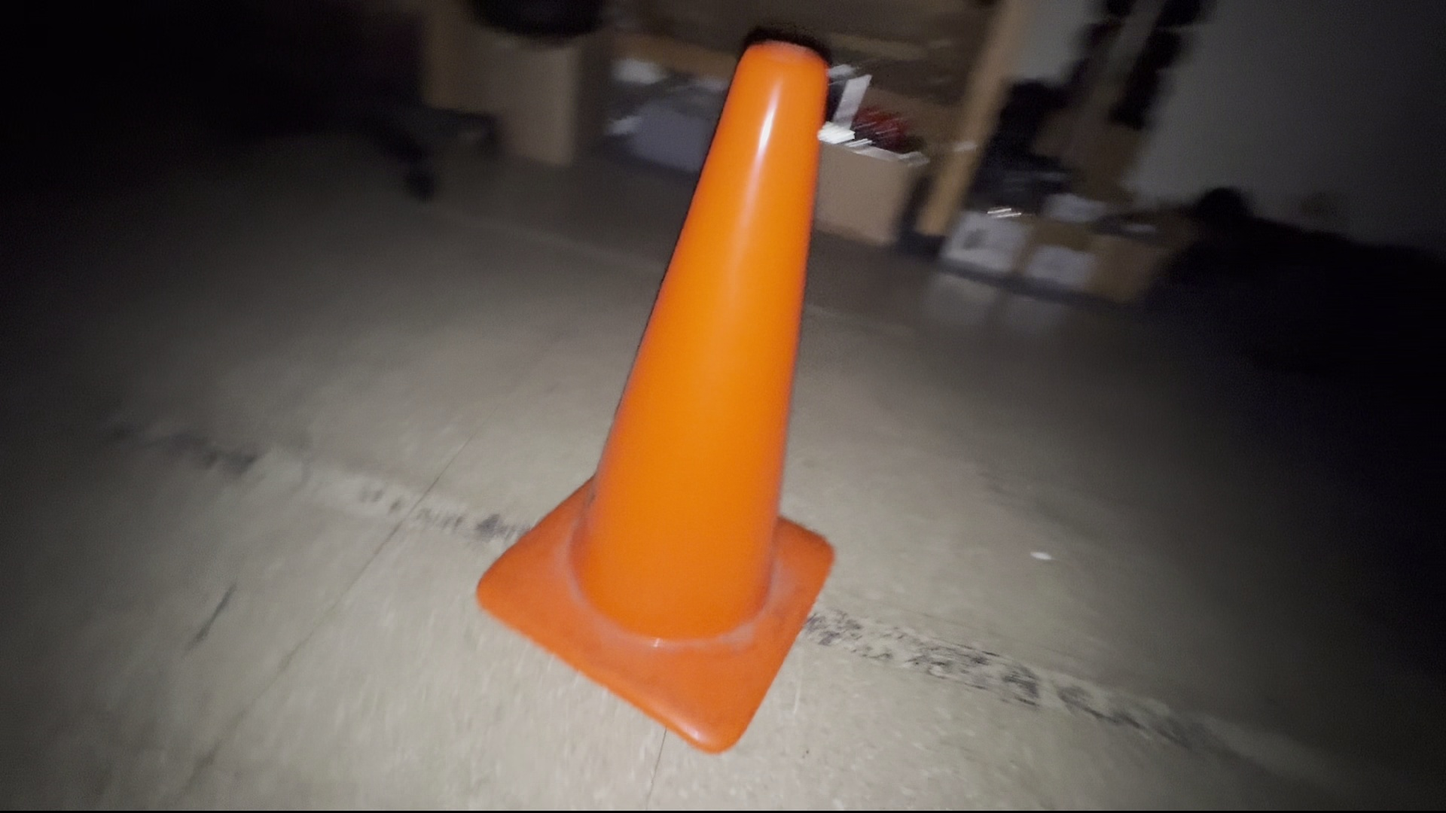traffic_cone: (475, 36, 838, 755)
